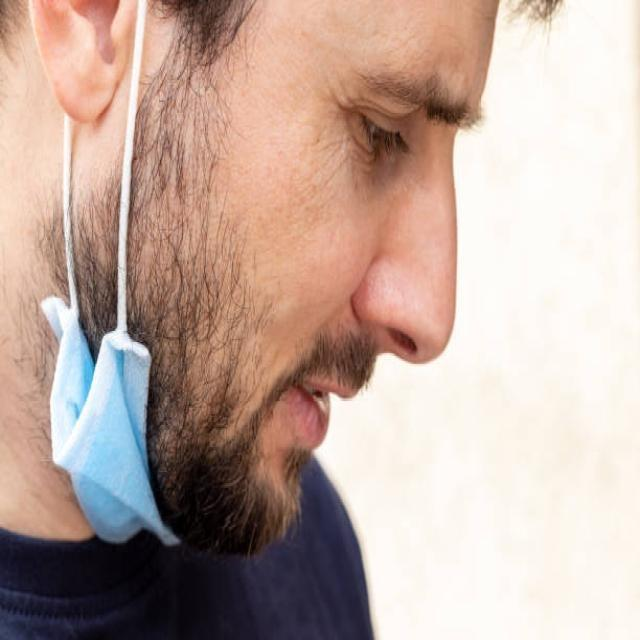hairnet: (38, 226, 483, 565)
